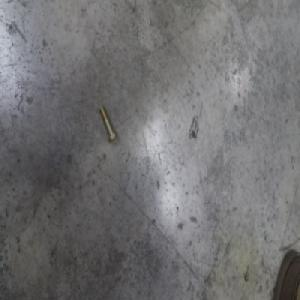Bolt: (100, 102, 118, 143)
